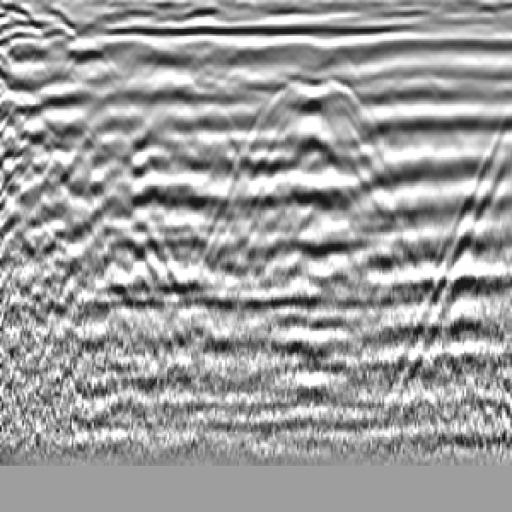metalic: (243, 72, 396, 183)
